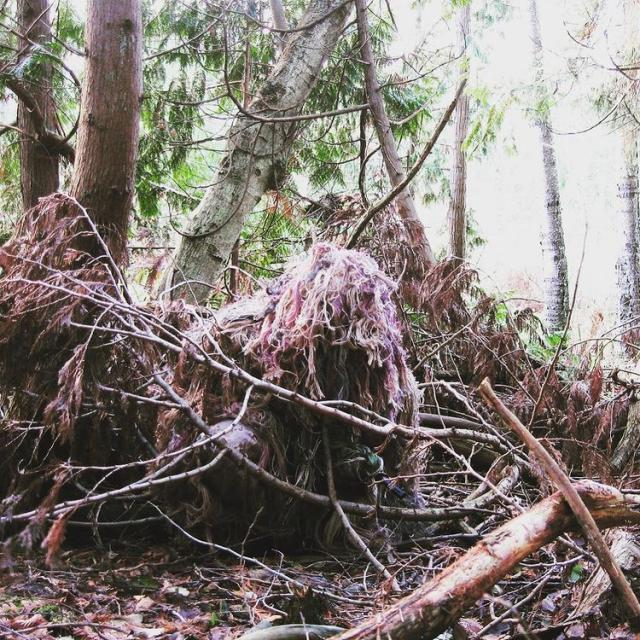Camouflage: (176, 244, 421, 554)
